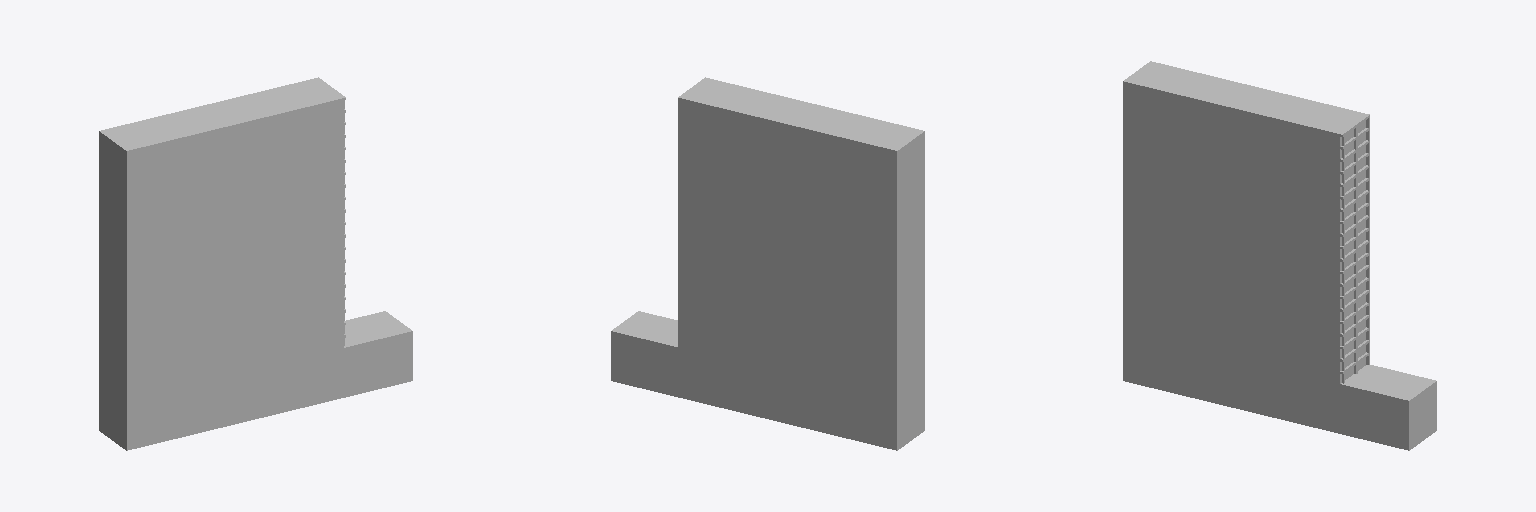
Rendered from 3d fon 1.1-20.obj.
3 views of the same model, side by side, from view 1: azimuth 30°, elevation 25°; view 2: azimuth 150°, elevation 25°; view 3: azimuth 330°, elevation 25° (orthographic).
Parts seen in each view (by area): view 1: object 1; view 2: object 1; view 3: object 1.
Part boxes in pixels (bbox=[...]): object 1: bbox=[99, 77, 412, 450]; object 1: bbox=[611, 77, 924, 450]; object 1: bbox=[1123, 61, 1436, 450].
Bounding box in the file's own units: 12 × 12 × 2.